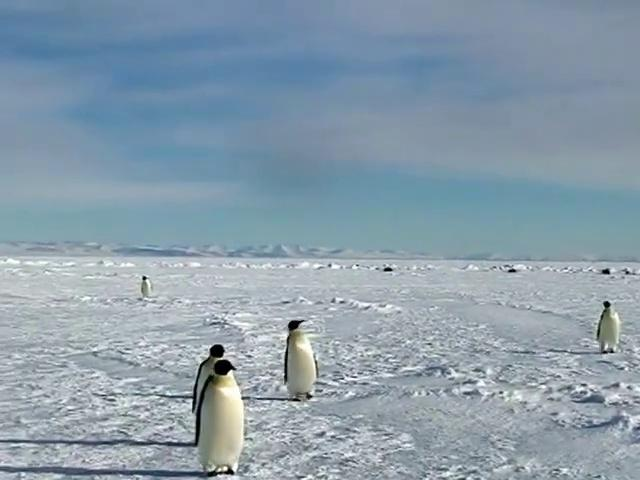animal: (284, 320, 317, 397)
